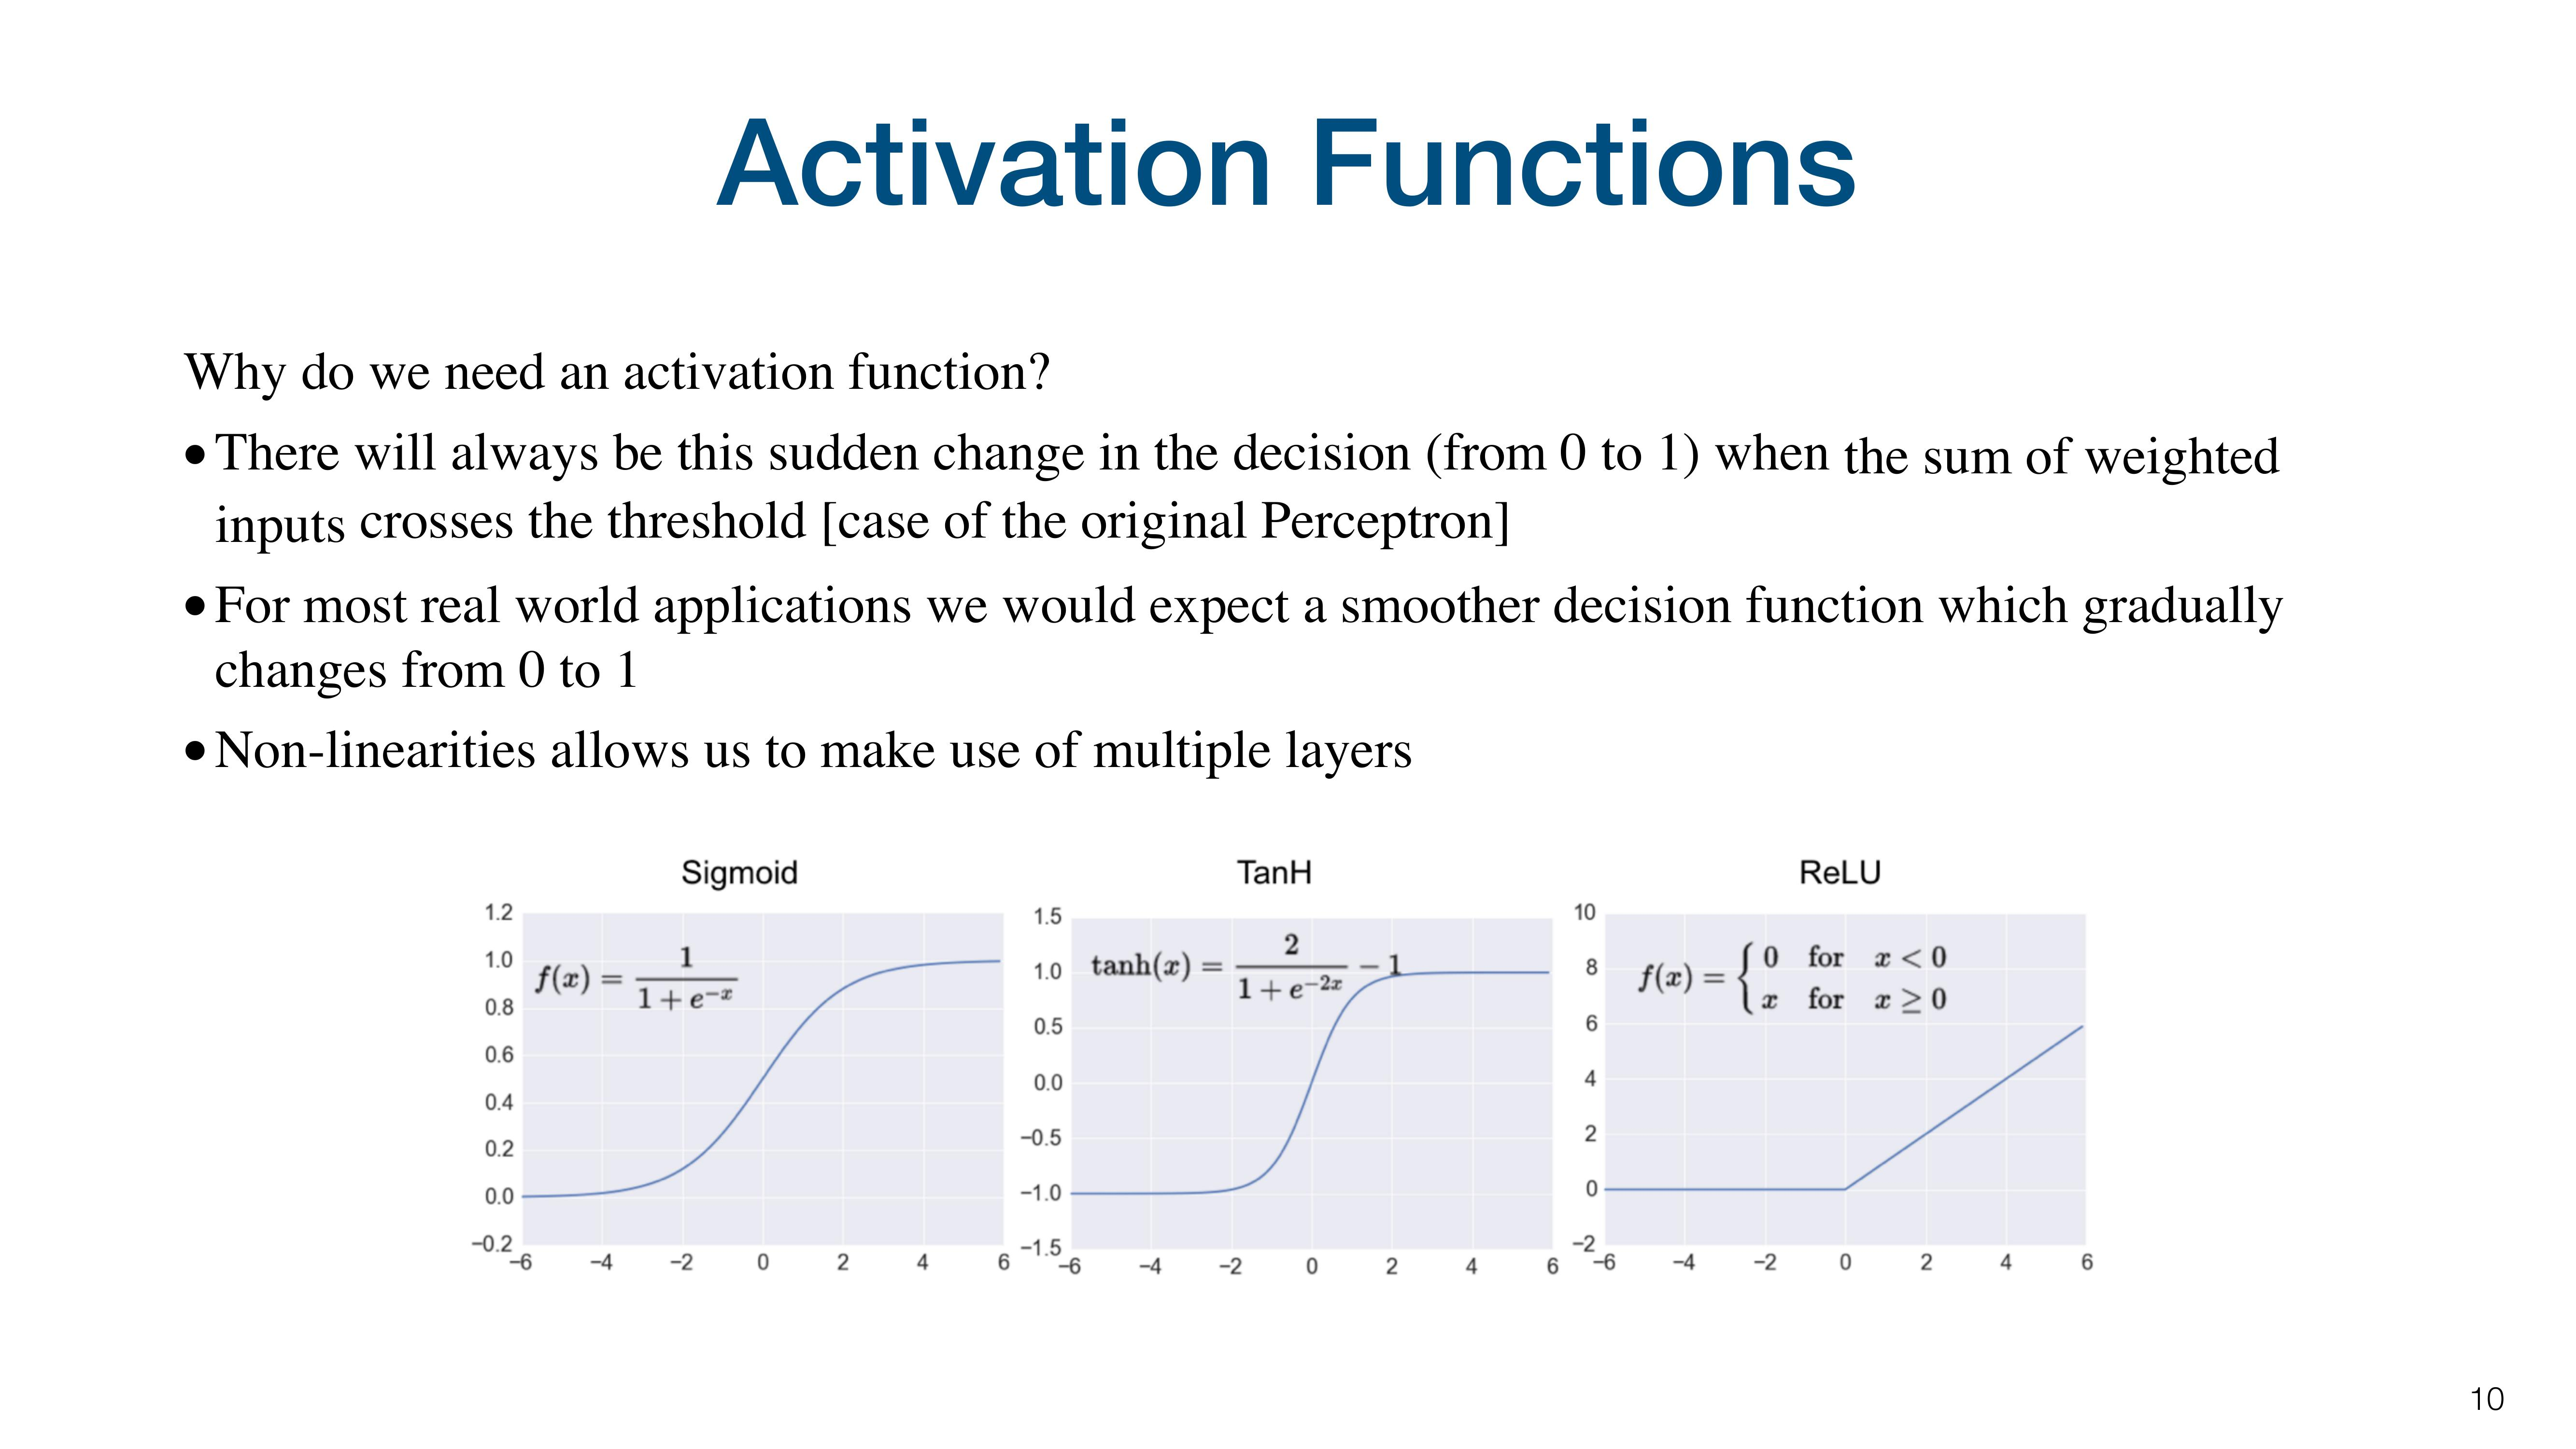Title: (717, 92, 1867, 260)
